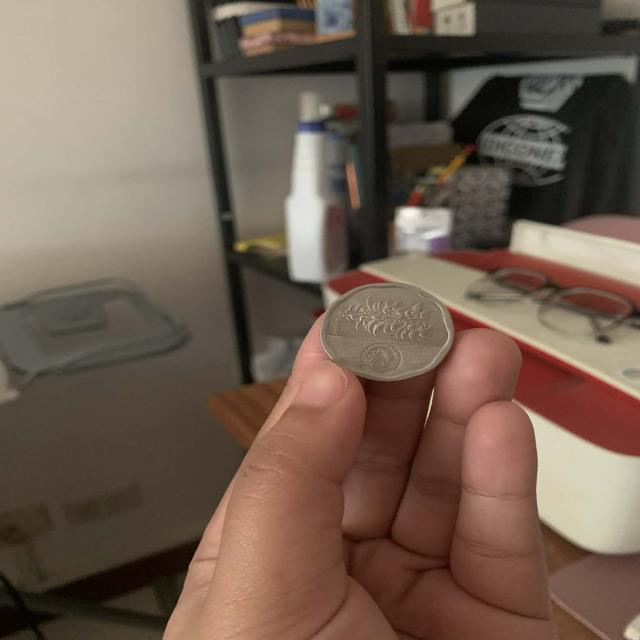5 peso: (317, 276, 464, 384)
